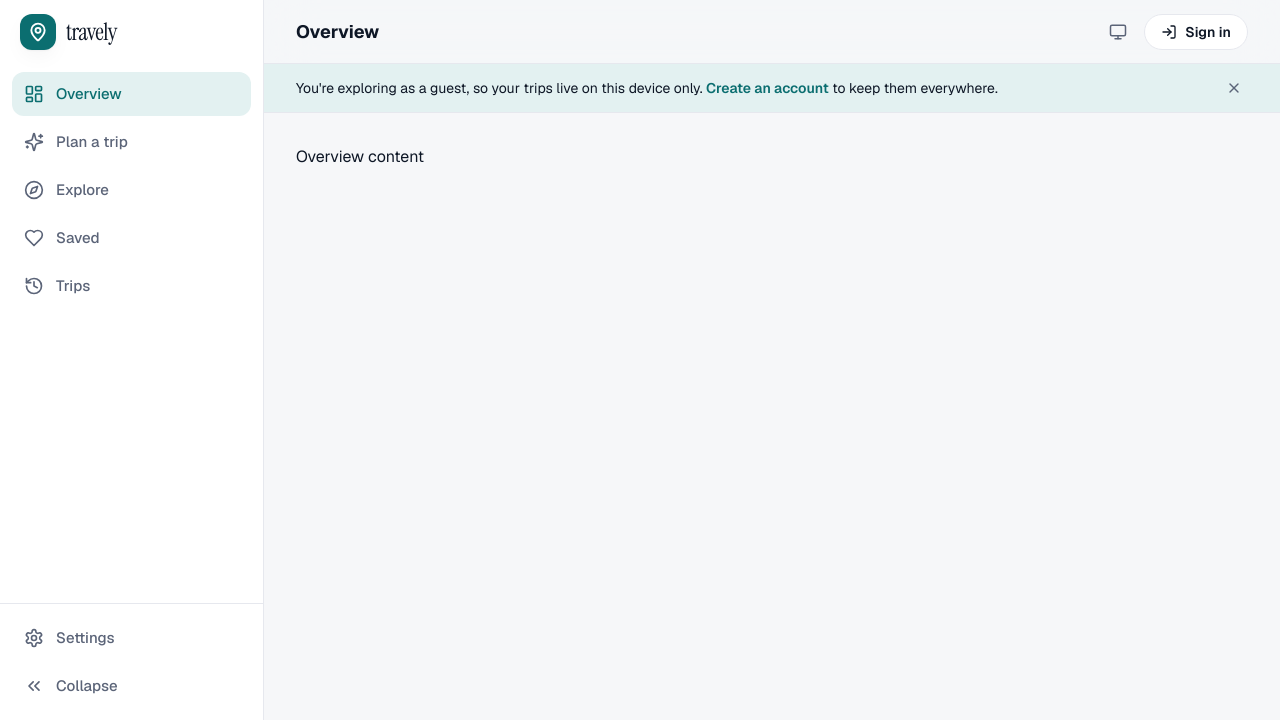
Test: AppShell › nudges guests to create an account, and the nudge can be dismissed
Expected: the message shows "exploring as a guest", left=296, top=79, right=702, bottom=97
Click the button named "Dismiss": [1234, 88] box left=1220, top=74, right=1248, bottom=102
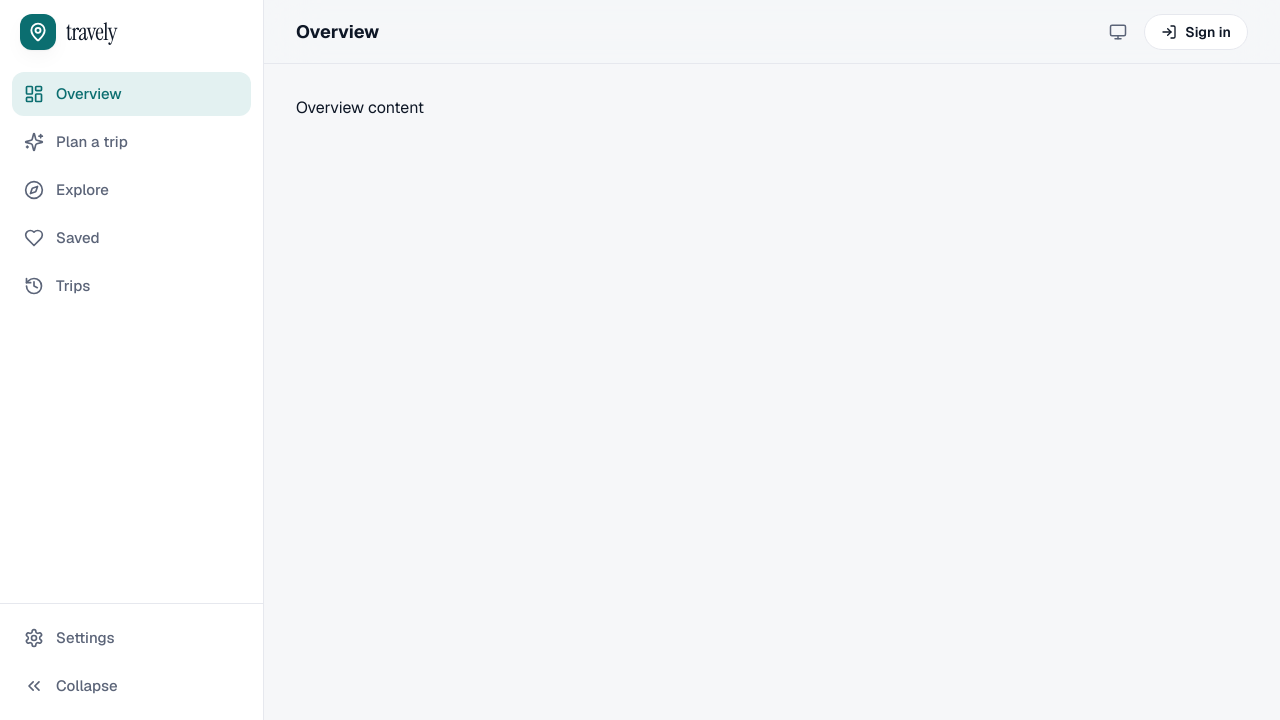
Now the message is gone
